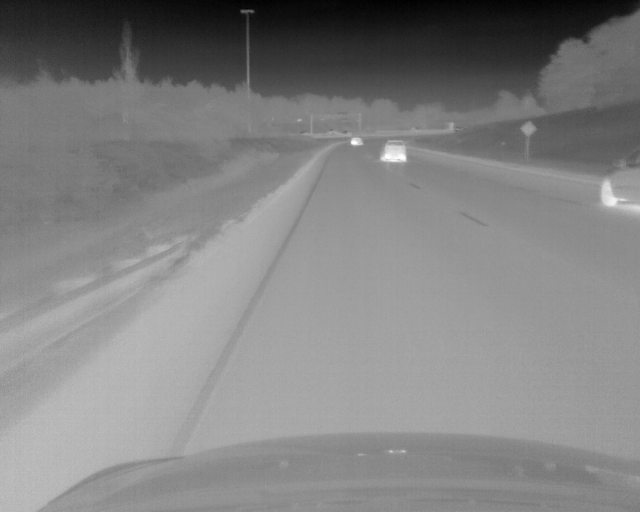car: (599, 147, 640, 209), (380, 139, 407, 162), (350, 135, 363, 146)
